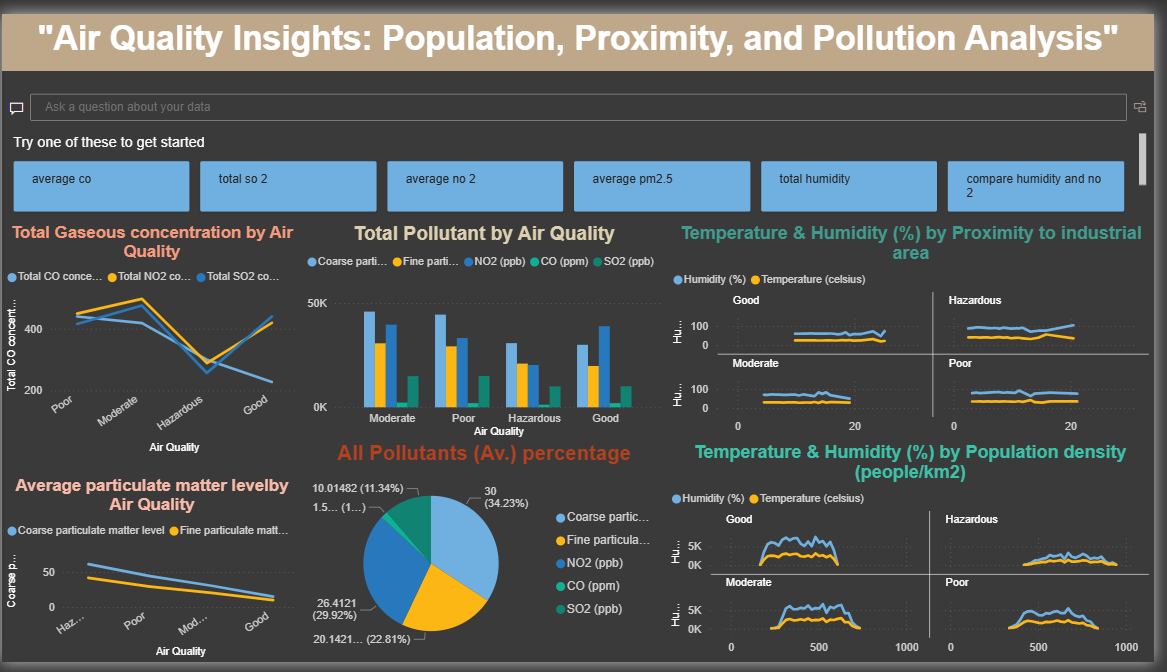

The page's visual inventory and layout, read from the dashboard file:
{"tool":"powerbi","page":{"name":"Page 1","canvas":[1280,720],"ordinal":0},"visuals":[{"type":"actionButton","box":[0,0,100,40],"z":0},{"type":"lineChart","title":"Total Gaseous concentration by Air Quality","fields":{"Y":["Sum(updated_pollution_dataset.Normalized CO)","Sum(updated_pollution_dataset.Normalized NO2)","Sum(updated_pollution_dataset.Normalized SO2)"],"Category":["updated_pollution_dataset.Air Quality"]},"box":[0,231.7,333.3,261.7],"z":1000},{"type":"pieChart","title":"All Pollutants (Av.) percentage ","fields":{"Y":["Avg(updated_pollution_dataset.PM10)","Avg(updated_pollution_dataset.PM2.5)","Avg(updated_pollution_dataset.NO2)","Avg(updated_pollution_dataset.CO)","Avg(updated_pollution_dataset.SO2)"]},"box":[333.3,475,405,245],"z":2000},{"type":"lineChart","title":"Average particulate matter levelby Air Quality","fields":{"Category":["updated_pollution_dataset.Air Quality"],"Y":["Avg(updated_pollution_dataset.PM10)","Avg(updated_pollution_dataset.PM2.5)"]},"box":[0,513.3,333.3,206.7],"z":3000},{"type":"clusteredColumnChart","title":"Total Pollutant by Air Quality","fields":{"Category":["updated_pollution_dataset.Air Quality"],"Y":["Sum(updated_pollution_dataset.PM10)","Sum(updated_pollution_dataset.PM2.5)","Sum(updated_pollution_dataset.NO2)","Sum(updated_pollution_dataset.CO)","Sum(updated_pollution_dataset.SO2)"]},"box":[333.3,231.7,405,243.3],"z":4000},{"type":"lineChart","title":"Temperature & Humidity (%) by Proximity to industrial area","fields":{"Y":["Avg(updated_pollution_dataset.Humidity)","Avg(updated_pollution_dataset.Temperature)"],"Category":["updated_pollution_dataset.Proximity_to_Industrial_Areas (bins)"],"Rows":["updated_pollution_dataset.Air Quality"]},"box":[740,231.7,540,243.3],"z":5000},{"type":"lineChart","title":"Temperature & Humidity (%) by Population density (people/km2)","fields":{"Y":["Sum(updated_pollution_dataset.Humidity)","Sum(updated_pollution_dataset.Temperature)"],"Category":["updated_pollution_dataset.Population_Density (bins)"],"Rows":["updated_pollution_dataset.Air Quality"]},"box":[738.3,475,541.7,245],"z":6000},{"type":"qnaVisual","box":[0,63.3,1280,168.3],"z":7000},{"type":"textbox","box":[0,0,1280,63.3],"z":8000}]}

Visuals, with their boxes in screenshot pixels (x1, y1, x2, y2), scaled from the page's 1280x720 canvas onto the 1167x672 screenshot:
actionButton: select_region(0, 0, 91, 37)
"Total Gaseous concentration by Air Quality" lineChart: select_region(0, 216, 304, 461)
"All Pollutants (Av.) percentage " pieChart: select_region(304, 443, 673, 671)
"Average particulate matter levelby Air Quality" lineChart: select_region(0, 479, 304, 671)
"Total Pollutant by Air Quality" clusteredColumnChart: select_region(304, 216, 673, 443)
"Temperature & Humidity (%) by Proximity to industrial area" lineChart: select_region(675, 216, 1166, 443)
"Temperature & Humidity (%) by Population density (people/km2)" lineChart: select_region(673, 443, 1166, 671)
qnaVisual: select_region(0, 59, 1166, 216)
textbox: select_region(0, 0, 1166, 59)
